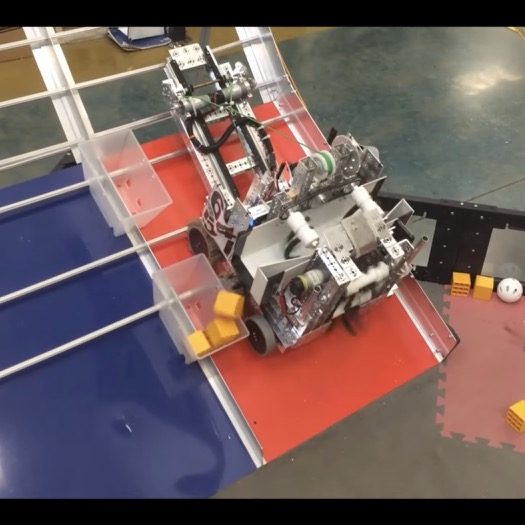robot: (160, 40, 442, 360)
